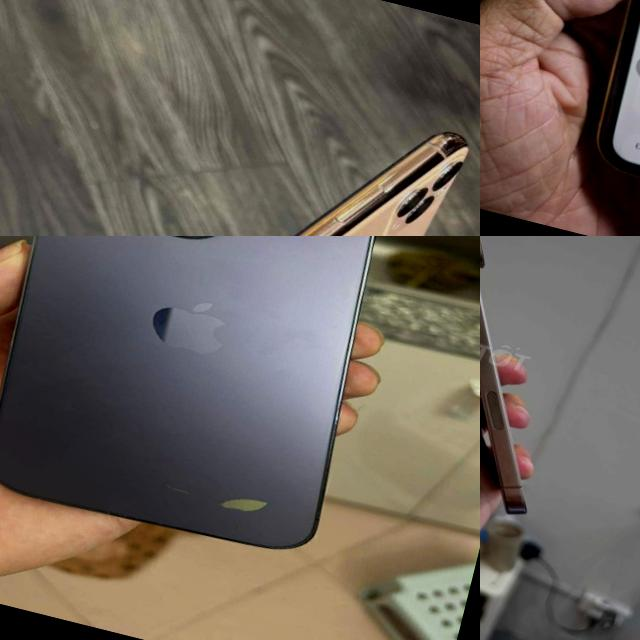scratch: (211, 480, 275, 524), (152, 472, 206, 511)
